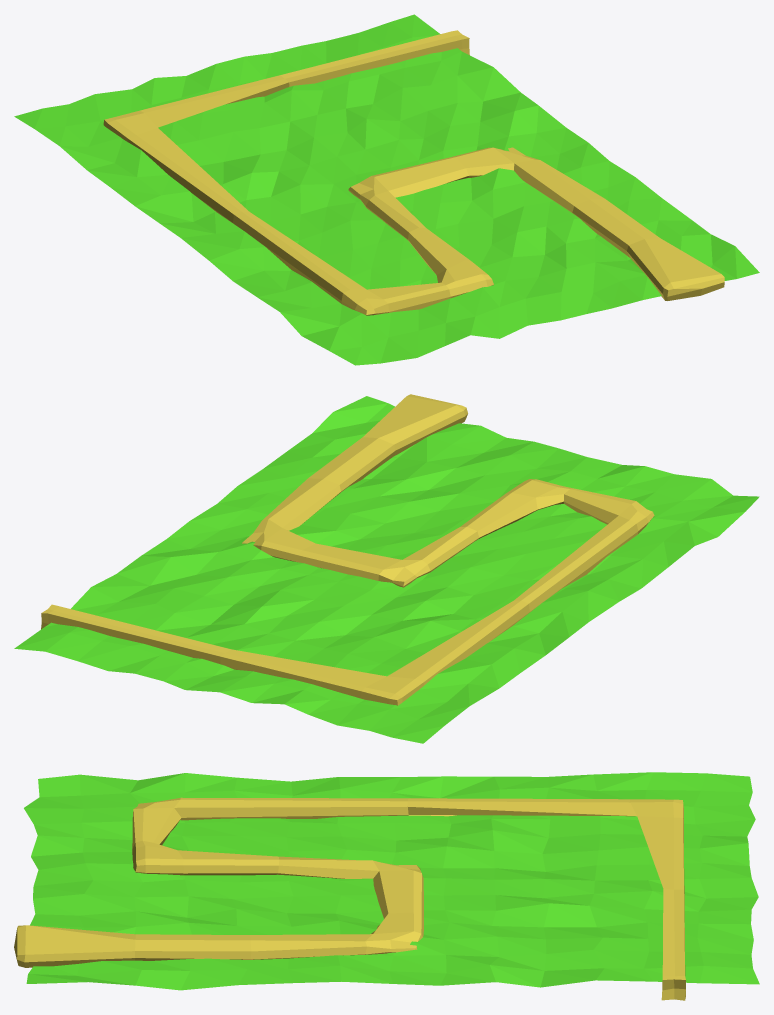
3 renders of one model, top to bottom at view 1: azimuth 30°, elevation 25°; view 2: azimuth 150°, elevation 25°; view 3: azimuth 270°, elevation 25°, orthographic. The views are drawn at different scales.
Visible parts, largest first — view 1: Plane, Cube; view 2: Plane, Cube; view 3: Plane, Cube.
Boxes of the visible parts, x1,y1,x2,y2 form: Plane: (14,14,759,365); Cube: (103,30,724,315); Plane: (14,396,759,743); Cube: (41,394,654,705); Plane: (24,772,759,990); Cube: (14,797,685,1000).
Size of the model in its own units: 4746 by 239 by 6991.
